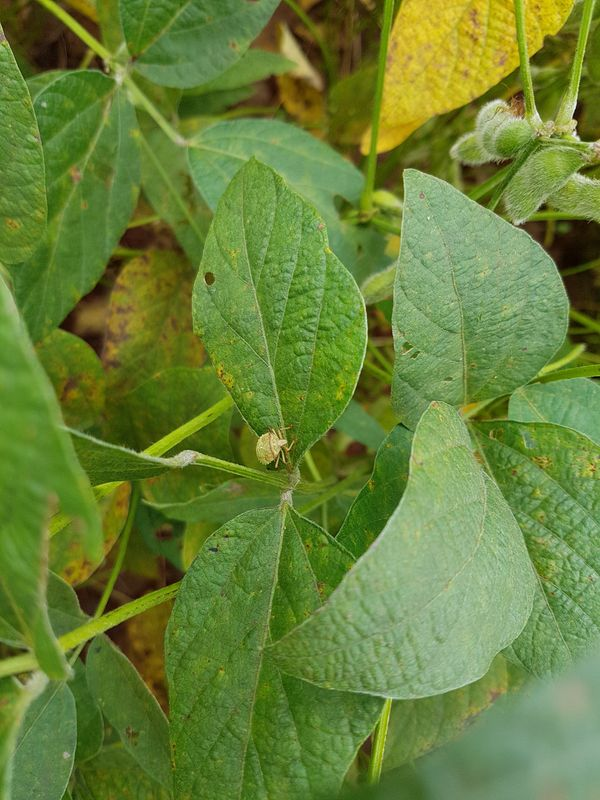Euschistus_heros_ninfa: (239, 413, 306, 485)
